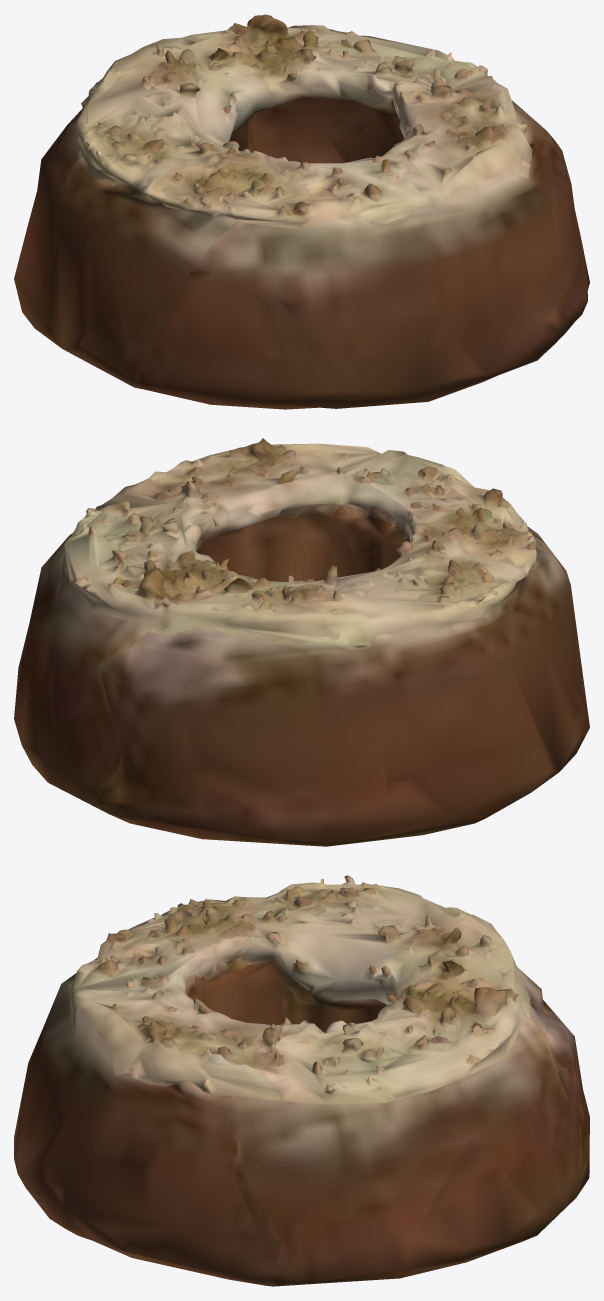
The picture shows the model from 3 angles, top to bottom: view 1: azimuth 30°, elevation 25°; view 2: azimuth 150°, elevation 25°; view 3: azimuth 270°, elevation 25°; orthographic projection. The views are drawn at different scales.
Parts seen in each view (by area): view 1: carrot_cake; view 2: carrot_cake; view 3: carrot_cake.
Part boxes in pixels (left/top/right/bottom): carrot_cake: left=14, top=14, right=589, bottom=409; carrot_cake: left=14, top=438, right=589, bottom=846; carrot_cake: left=14, top=875, right=589, bottom=1286.
Bounding box in the file's own units: 0.2254 × 0.0976 × 0.2247.
Materials: 1 (1 with a texture image).
